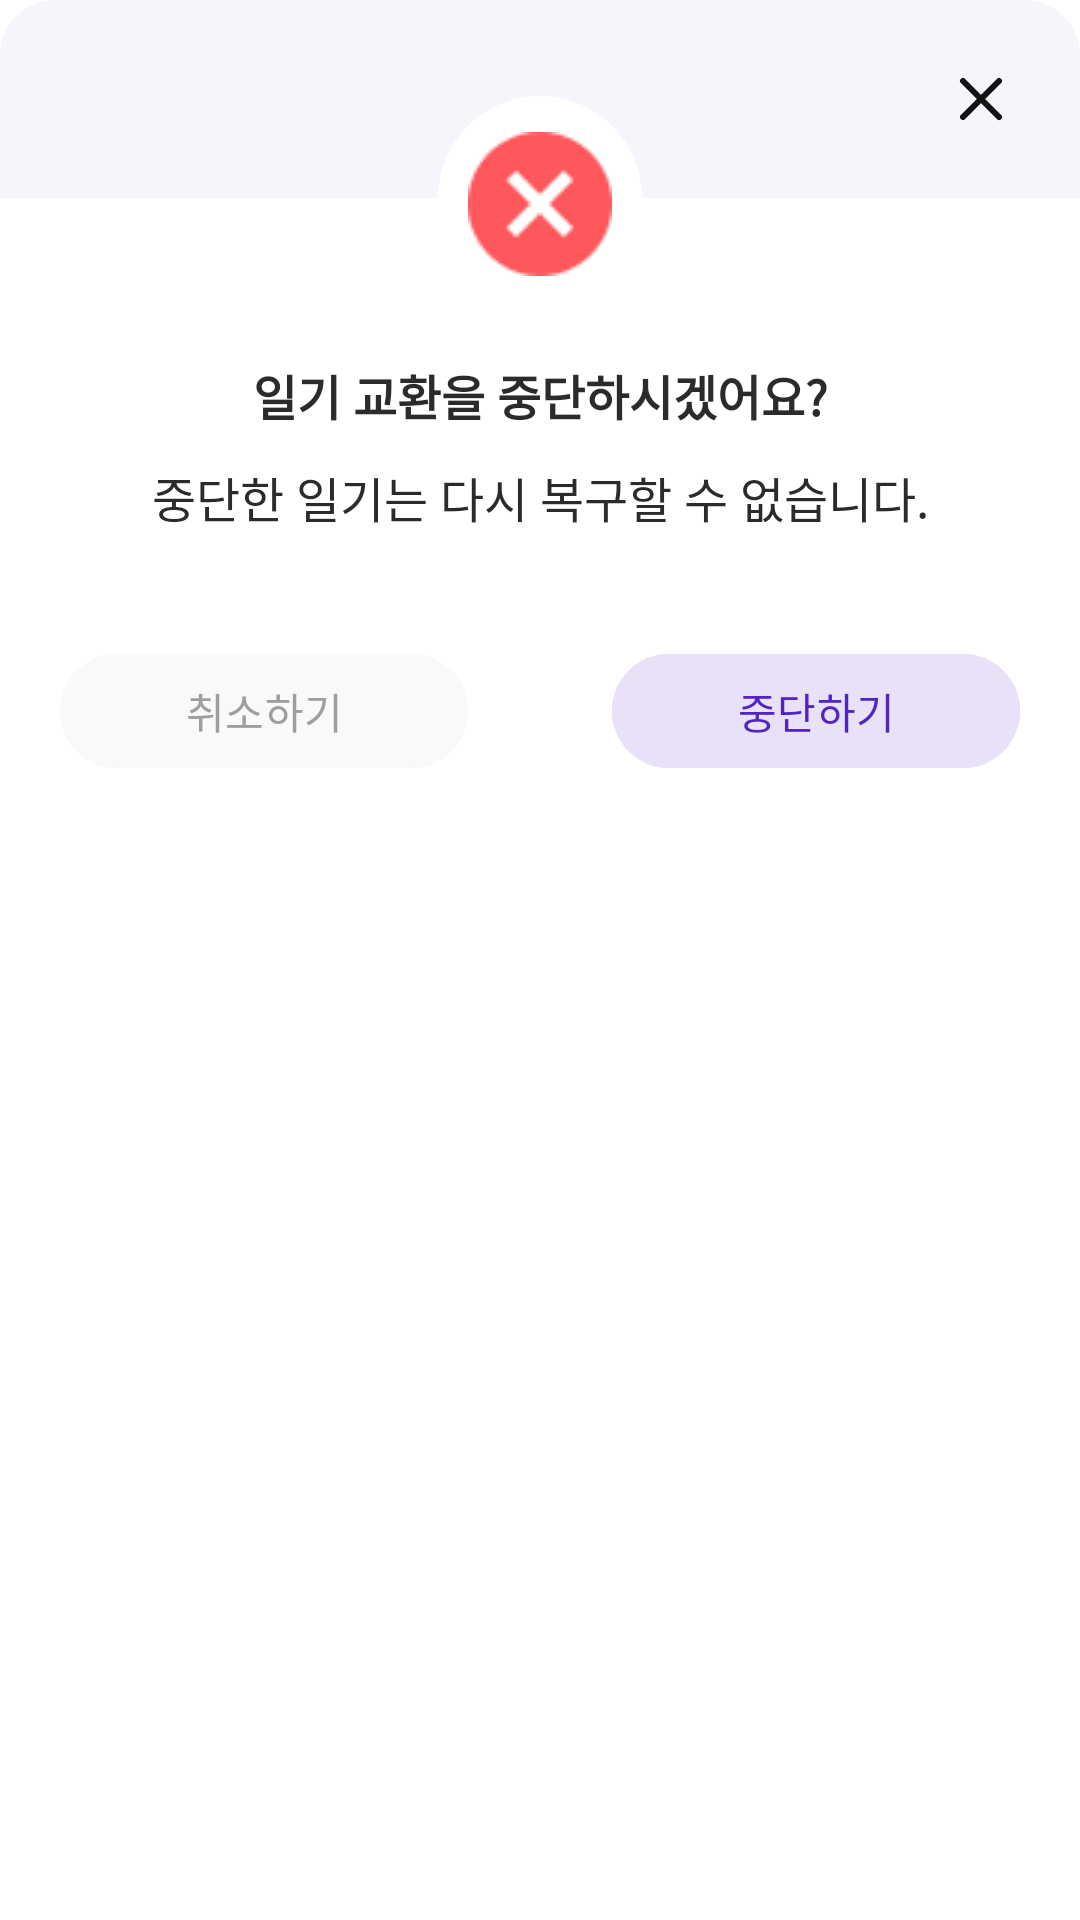

Point at icon controls on the screen. Image size 1080×1920, points as [x,y].
close md: [981,99]
